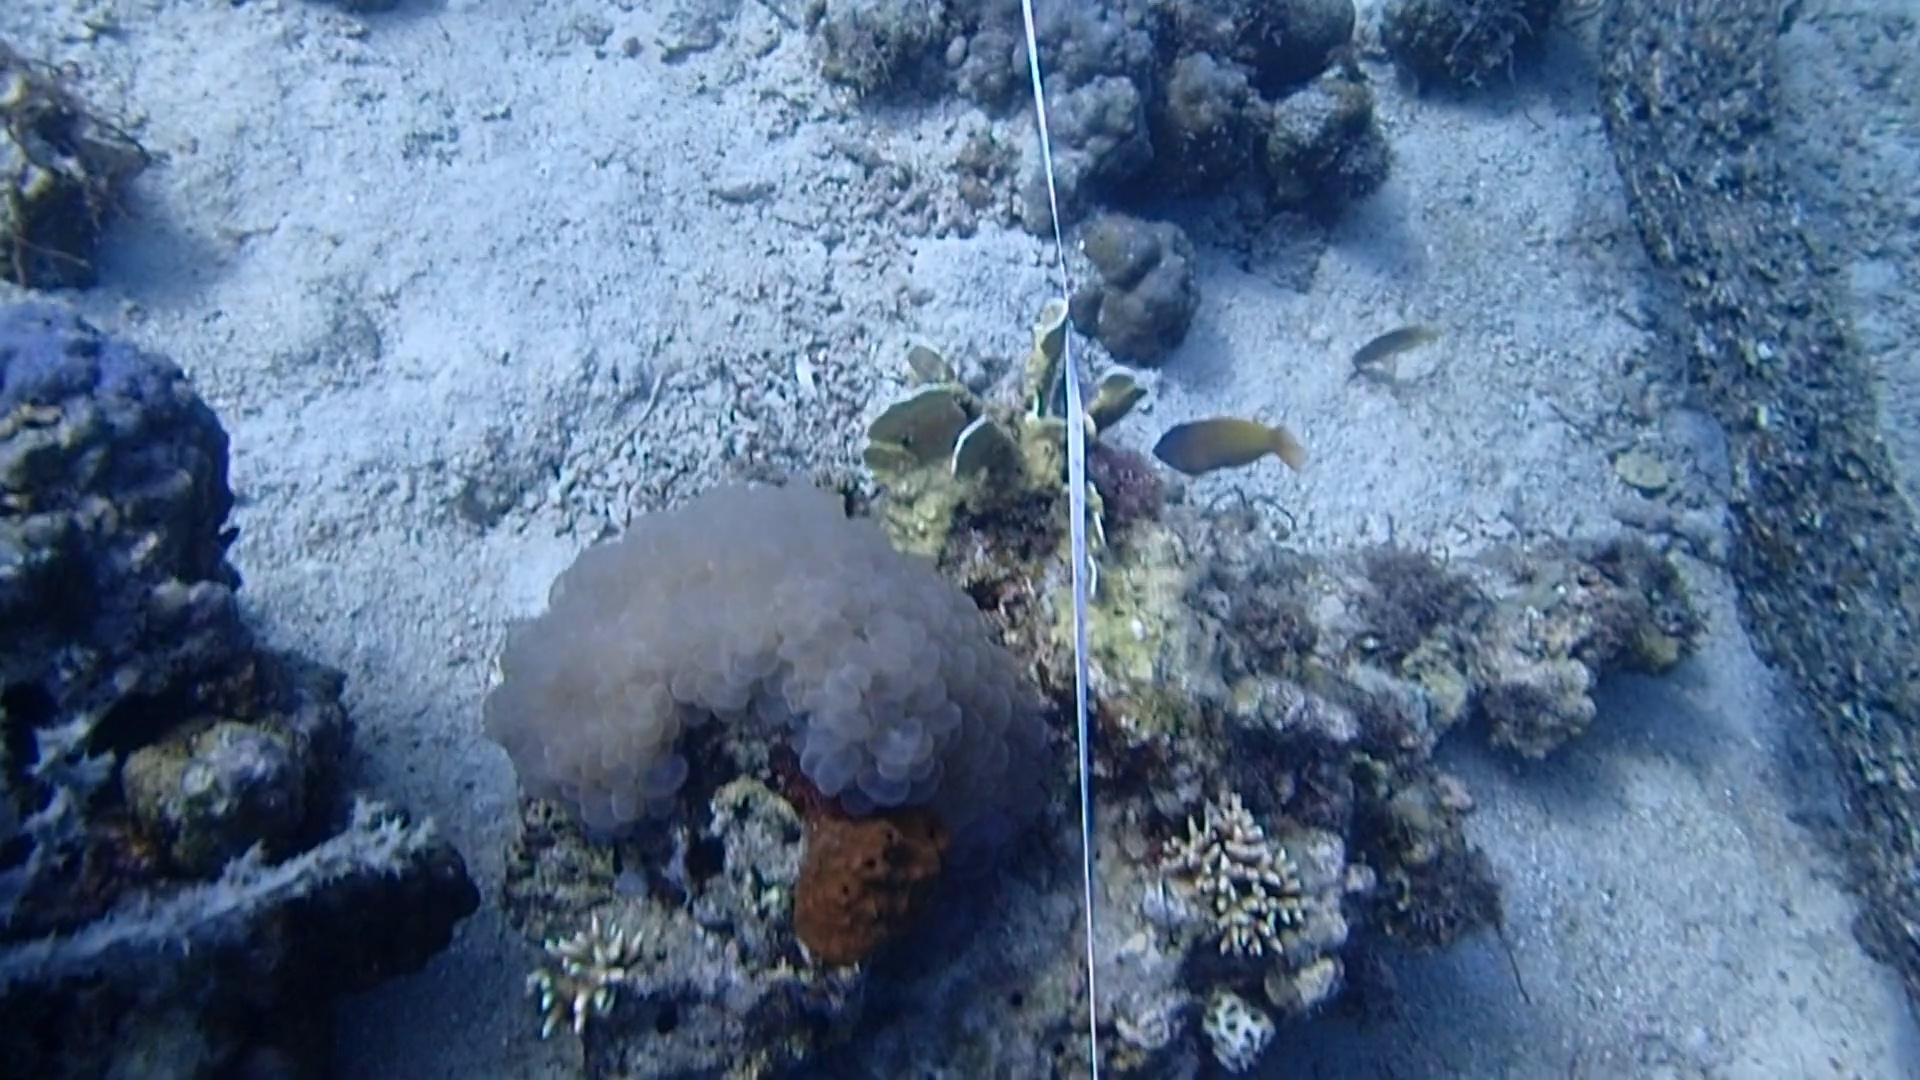Light Fish: (1338, 310, 1441, 392)
Yellow-Blue Fish: (1138, 410, 1315, 495)
